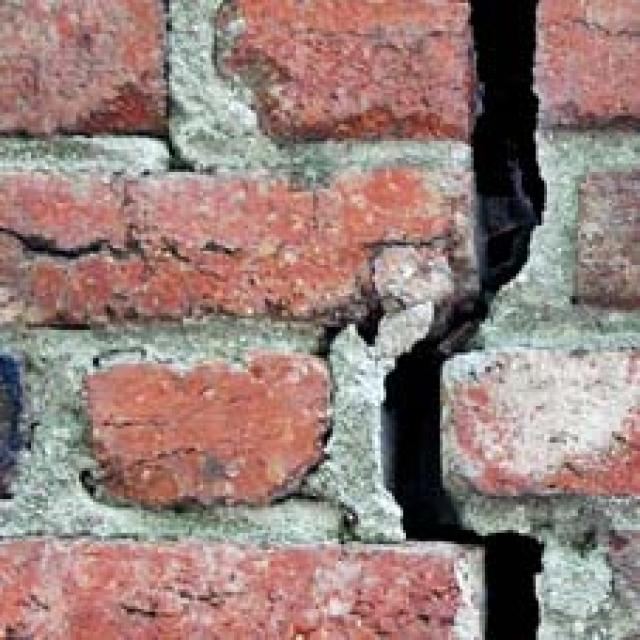Crack: (325, 0, 617, 640)
